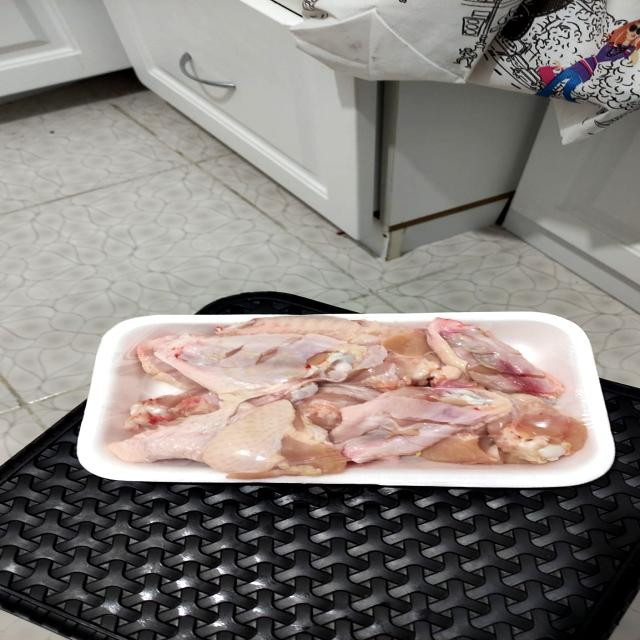chicken: (81, 301, 604, 487)
